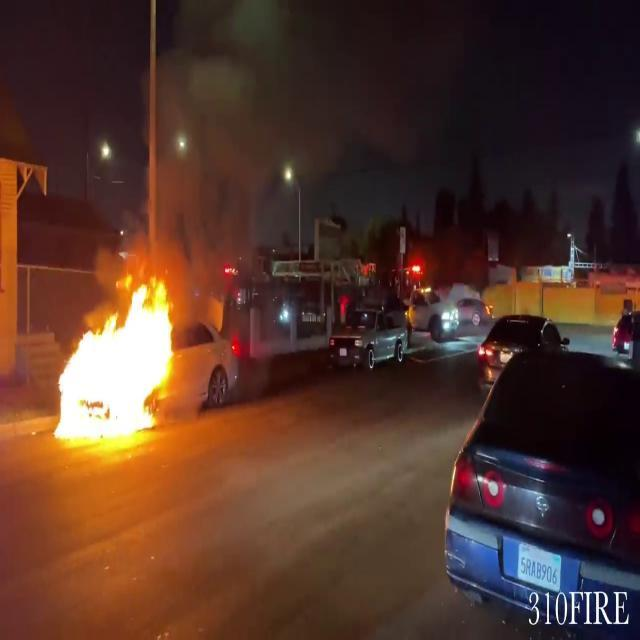Fire: (47, 266, 185, 453)
Smoke: (121, 1, 323, 268)
